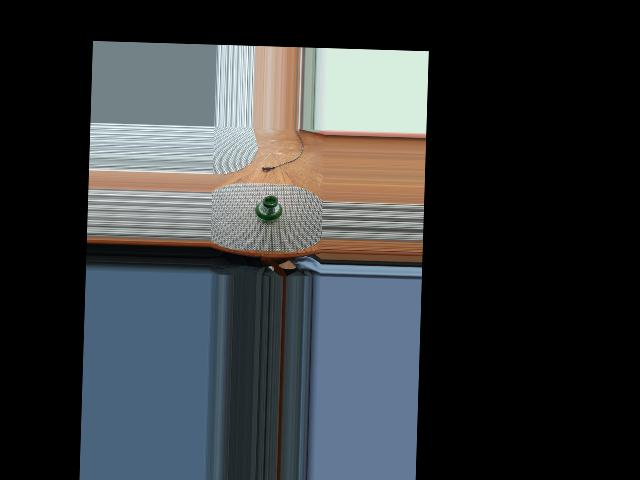beer: (255, 195, 281, 223)
